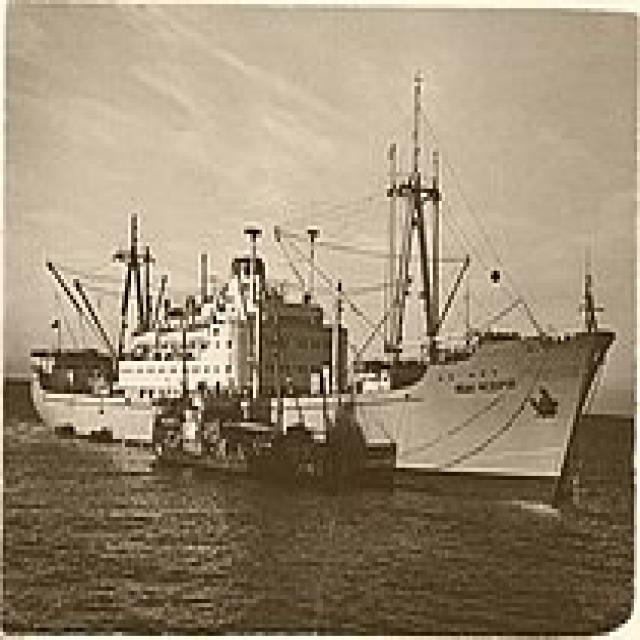Ship: (19, 149, 626, 506)
